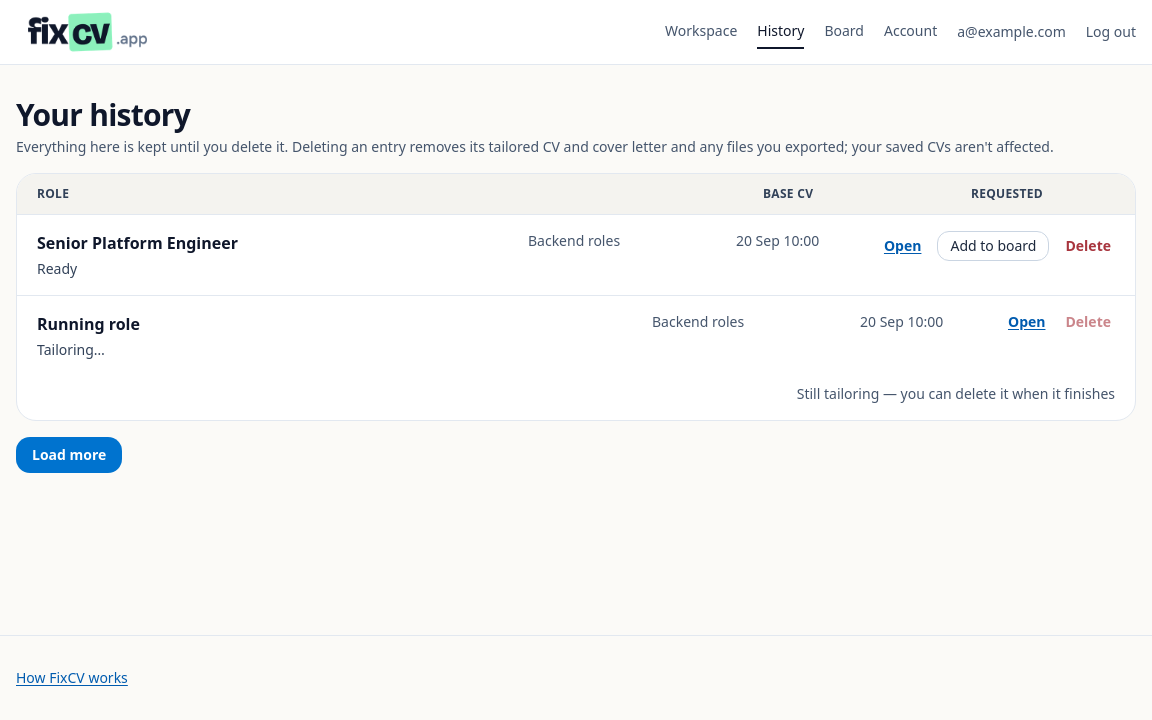
History page — markup and a11y (AC-50) › a failed delete is an alert, linked to the Delete button by aria-describedby
Expected: the text "Senior Platform Engineer" is shown, [37,231,238,255]
Click the button "Delete" in the row of "Senior Platform Engineer": (1088, 246) [1062,236,1115,256]
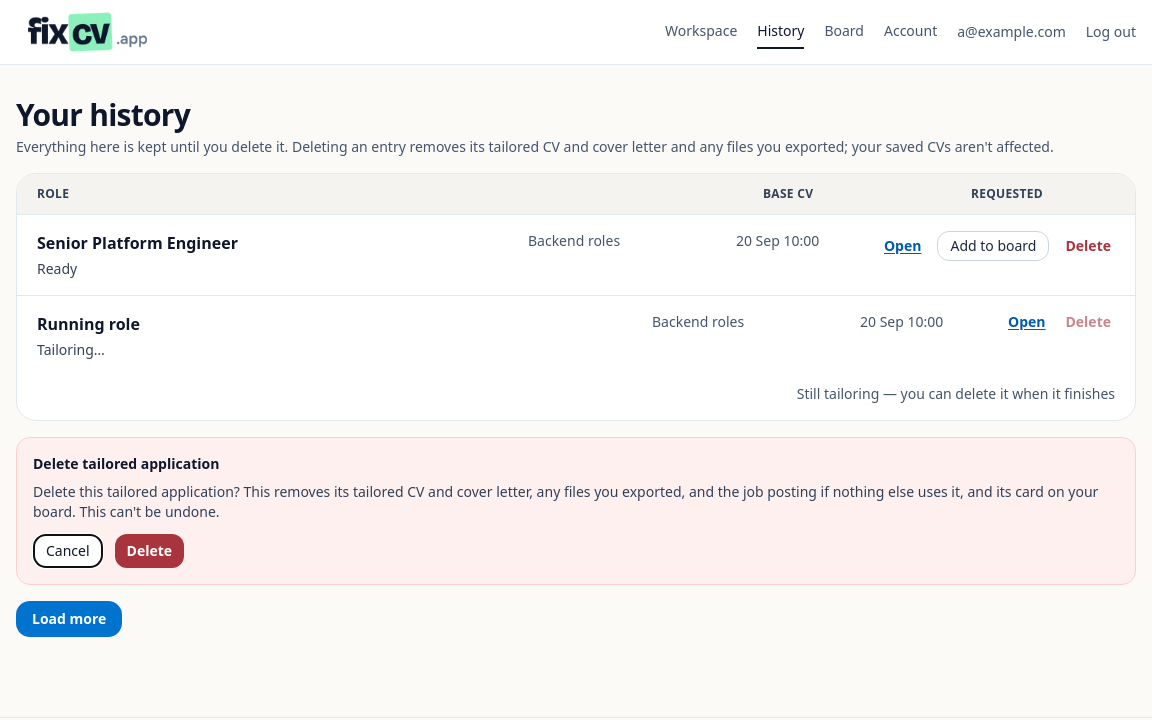
Click the button "Delete" below "Delete tailored application": (149, 551) [115,534,184,568]
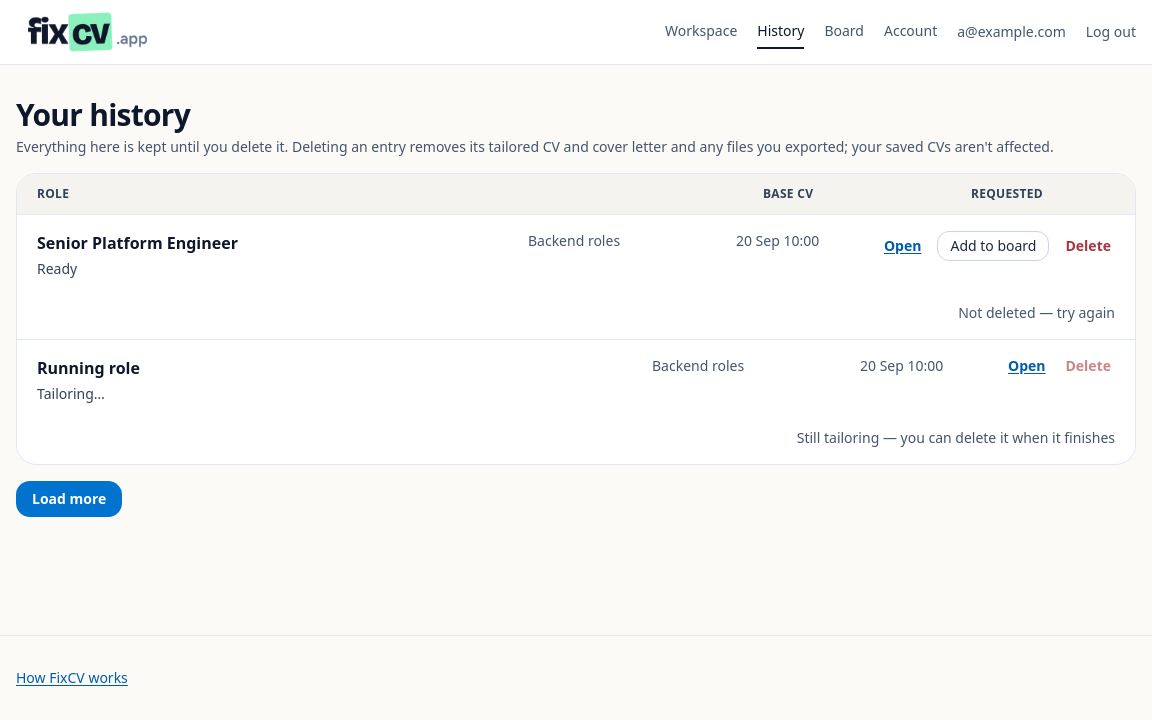
Now the message reads "Not deleted — try again", box [958,303,1115,322]
